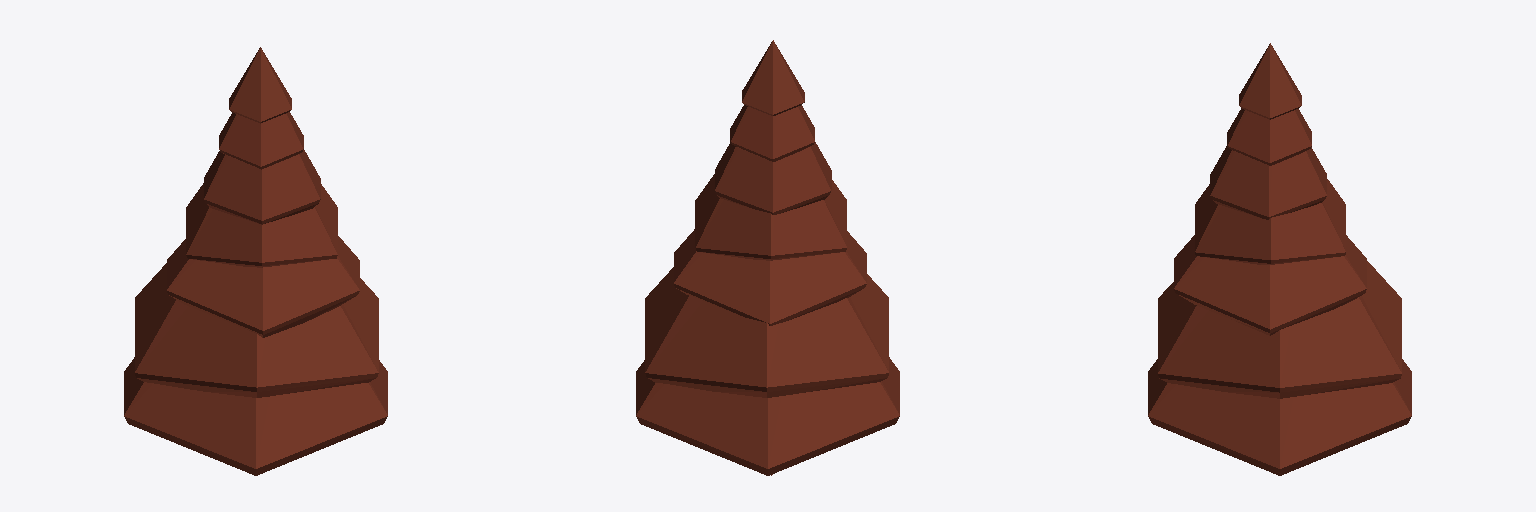
Rendered from arvore.obj.
3 views of the same model, side by side, from view 1: azimuth 30°, elevation 25°; view 2: azimuth 150°, elevation 25°; view 3: azimuth 270°, elevation 25° (orthographic).
Parts seen in each view (by area): view 1: Arvore; view 2: Arvore; view 3: Arvore.
Part boxes in pixels (x1,y1,x2,y2): Arvore: (124, 47, 387, 475); Arvore: (636, 40, 899, 475); Arvore: (1148, 43, 1411, 475).
Bounding box in the file's own units: 0.4764 × 0.7326 × 0.4126.